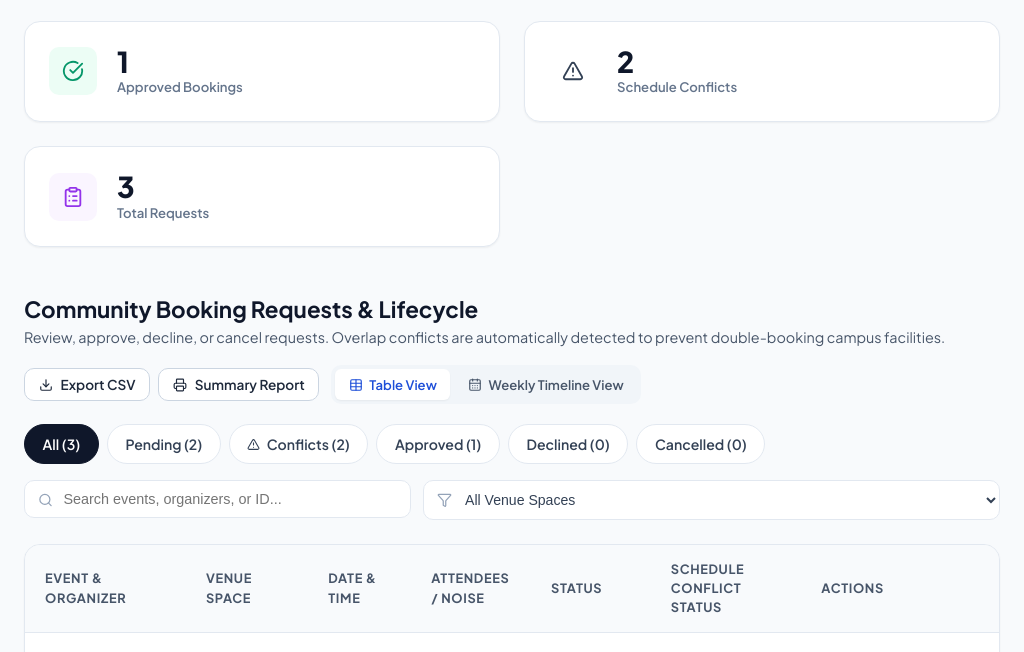
Weekly Calendar Timeline Feature › Staff Dashboard View Switching › switches between Table View and Weekly Timeline View
(page scrolled)
Check: the tab "All (3)" is shown, box [24,424,99,464]
// Switch to Weekly Timeline View
Click the button "Weekly Timeline View".
click(546, 385)  # box [454,369,637,400]
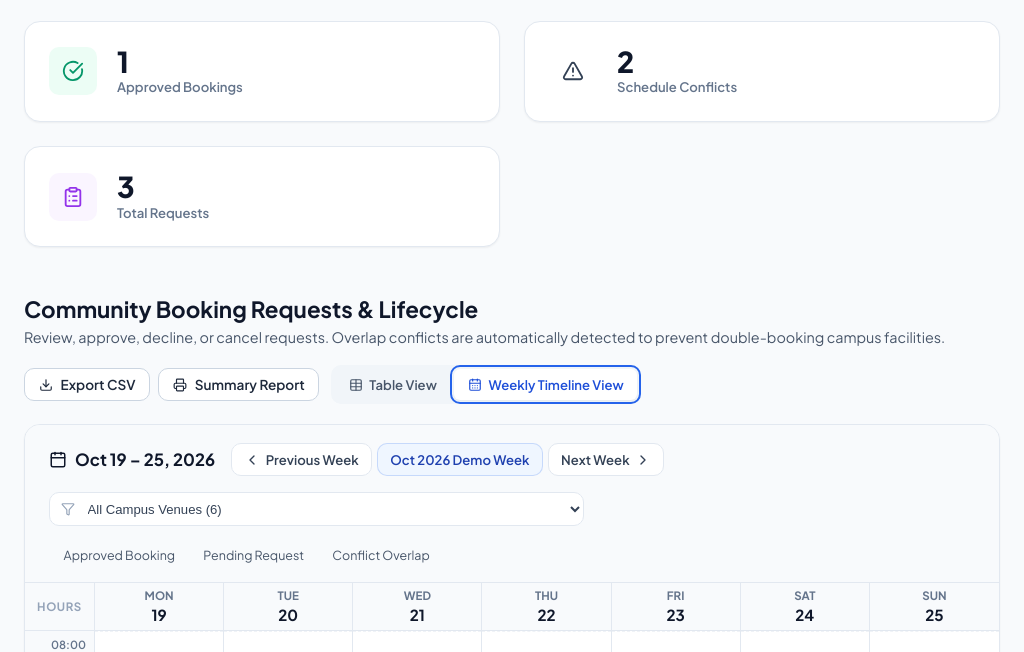
Check: the button "Oct 2026 Demo Week" is shown, box [377,443,542,476]
// Switch back to Table View
Click the button "Table View".
click(393, 385)  # box [335,369,450,400]
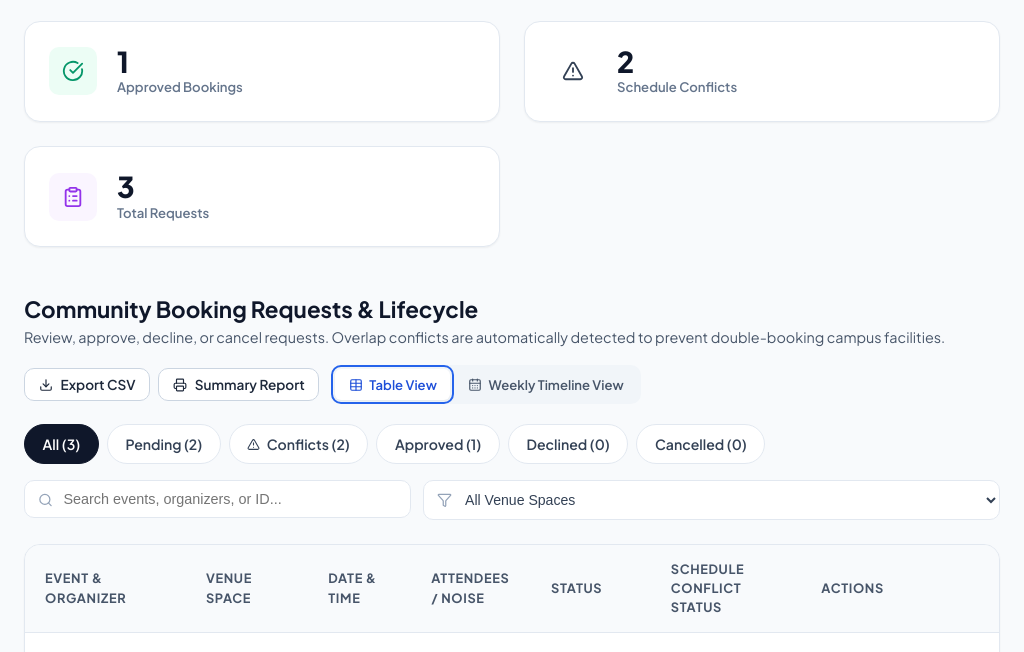
Check: the tab "All (3)" is shown, box [24,424,99,464]
